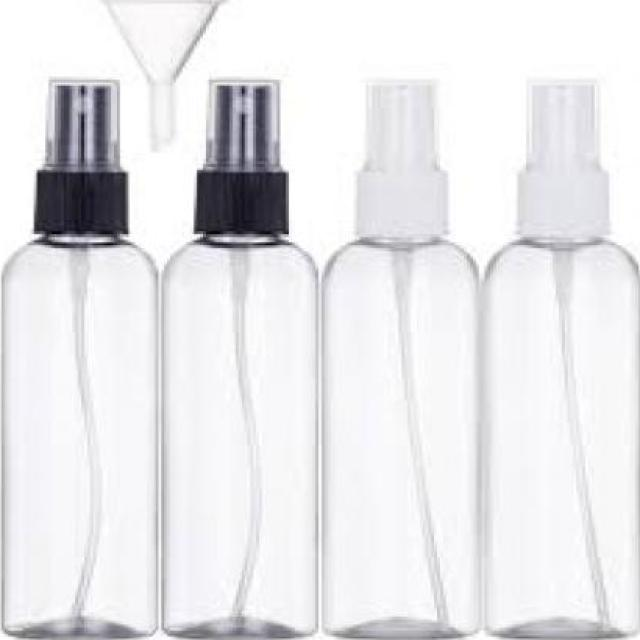kaca: (164, 230, 325, 640), (5, 231, 164, 640), (325, 238, 484, 636), (487, 238, 640, 636)
